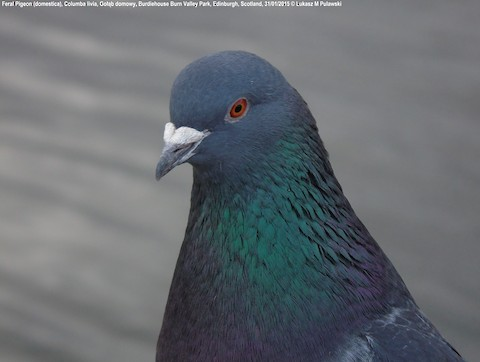pigeon: (147, 50, 461, 352)
